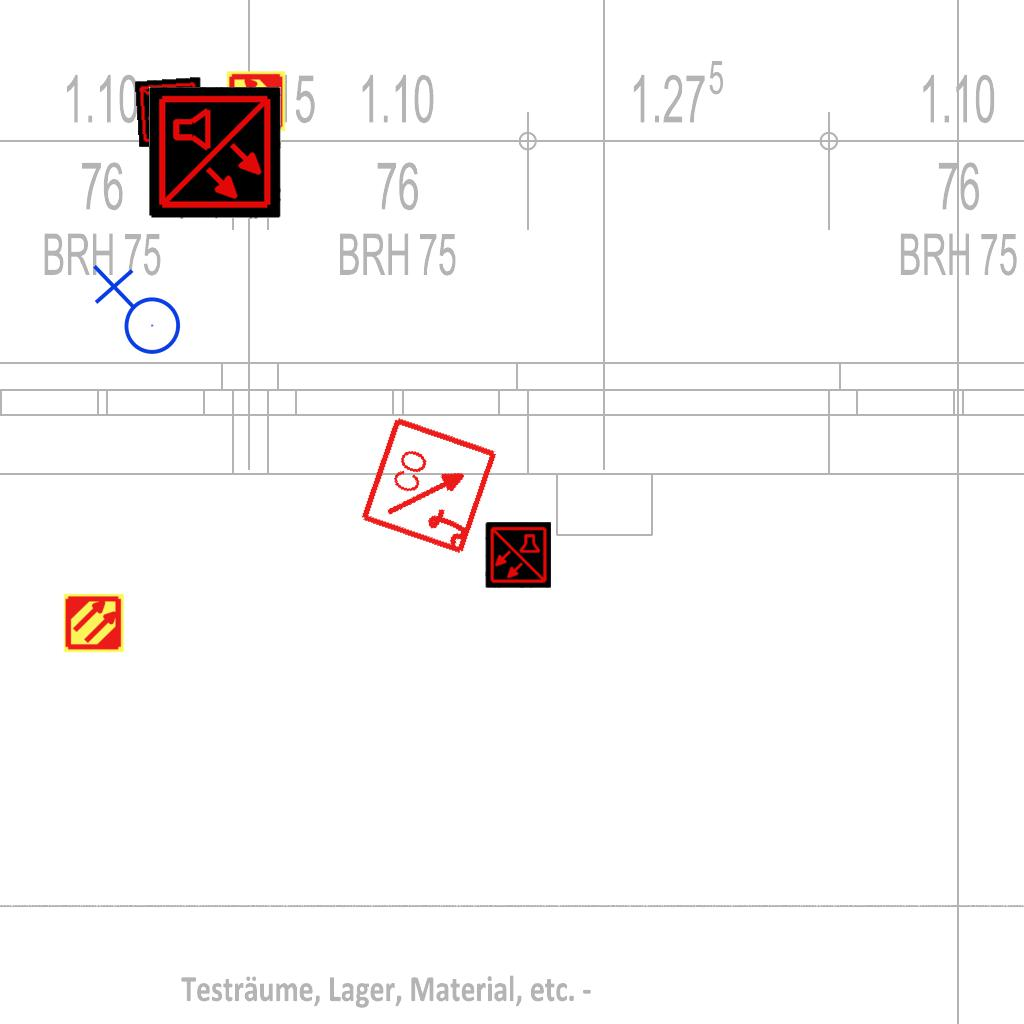ASR_Ansaugrauchmelder: (63, 592, 125, 654), (225, 70, 287, 132)
Elektroanschluss_allgemein_230V_Geraeteanschlussdose_230V: (88, 264, 182, 363)
OKW_Multisensormelder_(Kombination_optischer_Rauch-Kahlenmonoxid_Waerme-Melder): (149, 87, 281, 219), (134, 76, 206, 148), (485, 522, 551, 588)
ROA_Rauchmelder_optisch_mit_Signalgeber_(Sockelsirene): (358, 413, 503, 558)
